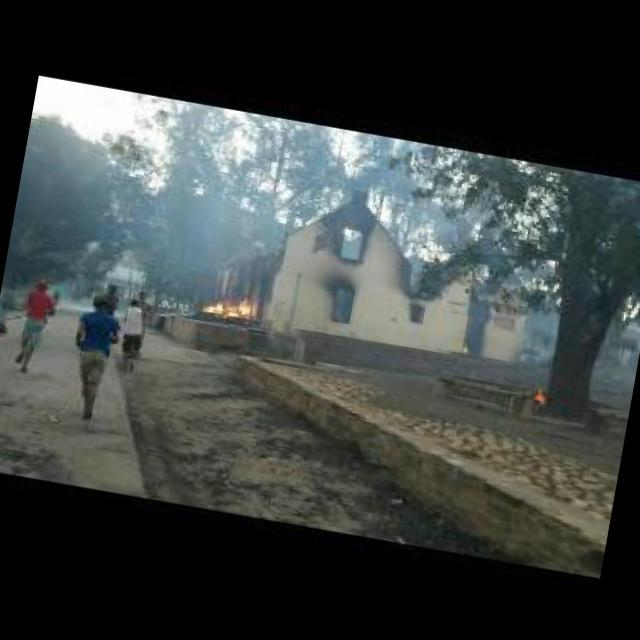fire: (202, 294, 253, 318), (524, 378, 550, 408)
